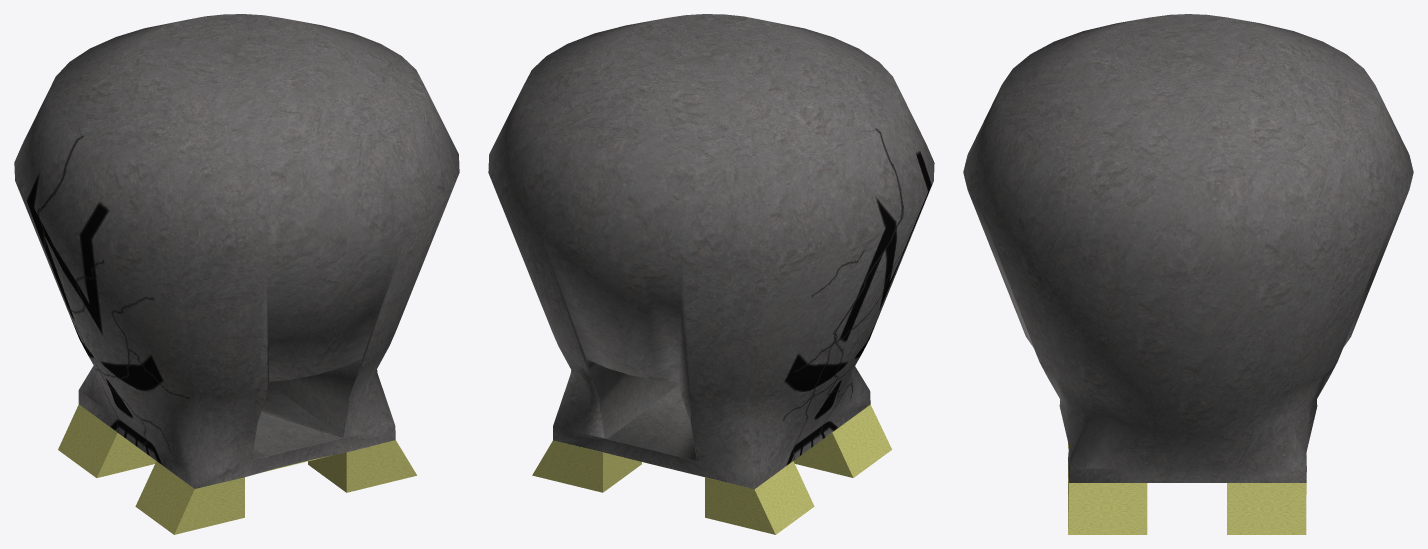
File: tete.fbx
3 renders of one model, left to right at view 1: azimuth 30°, elevation 25°; view 2: azimuth 150°, elevation 25°; view 3: azimuth 270°, elevation 25°, orthographic. The views are drawn at different scales.
Visible parts, largest first — view 1: teteHaut; view 2: teteHaut; view 3: teteHaut.
Boxes of the visible parts, bbox=[...] form: teteHaut: bbox=[14, 14, 459, 534]; teteHaut: bbox=[488, 14, 934, 534]; teteHaut: bbox=[963, 14, 1413, 534].
Size of the model in its own units: 30.67 by 30.56 by 29.91.
Materials: 2 (2 with a texture image).
